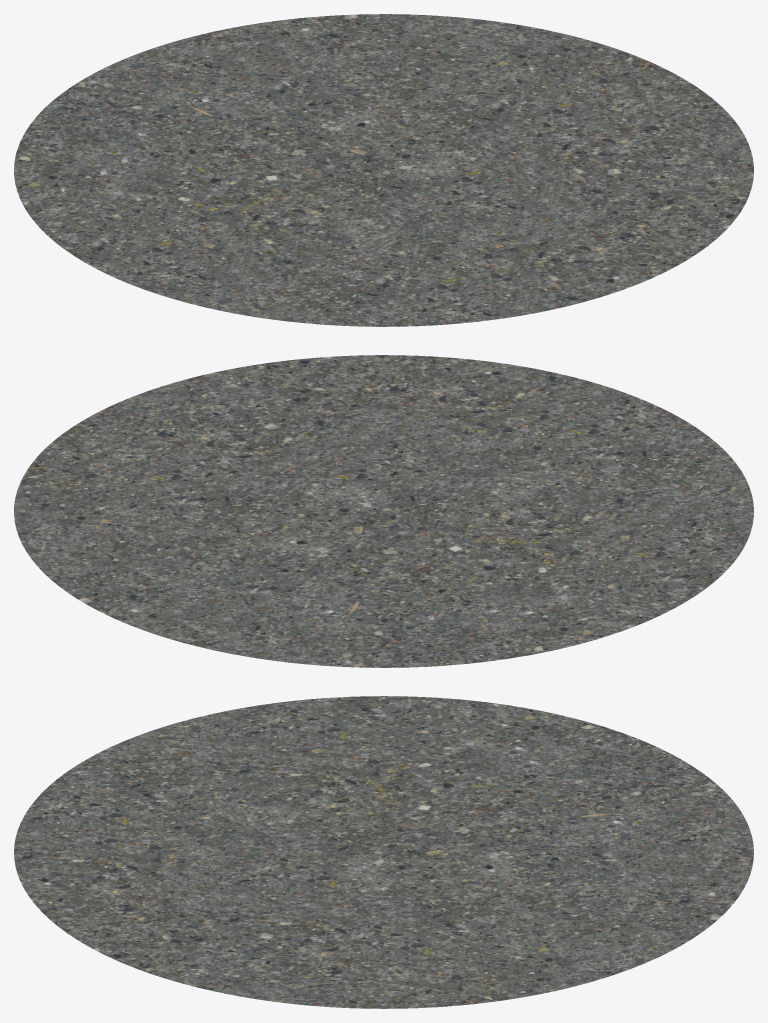
3 renders of one model, top to bottom at view 1: azimuth 30°, elevation 25°; view 2: azimuth 150°, elevation 25°; view 3: azimuth 270°, elevation 25°, orthographic.
Visible parts, largest first — view 1: Circle; view 2: Circle; view 3: Circle.
Boxes of the visible parts, x1,y1,x2,y2 form: Circle: [14, 14, 753, 326]; Circle: [14, 355, 753, 667]; Circle: [14, 696, 753, 1008].
Size of the model in its own units: 13.48 by 0 by 13.48.
Materials: 1 (1 with a texture image).
